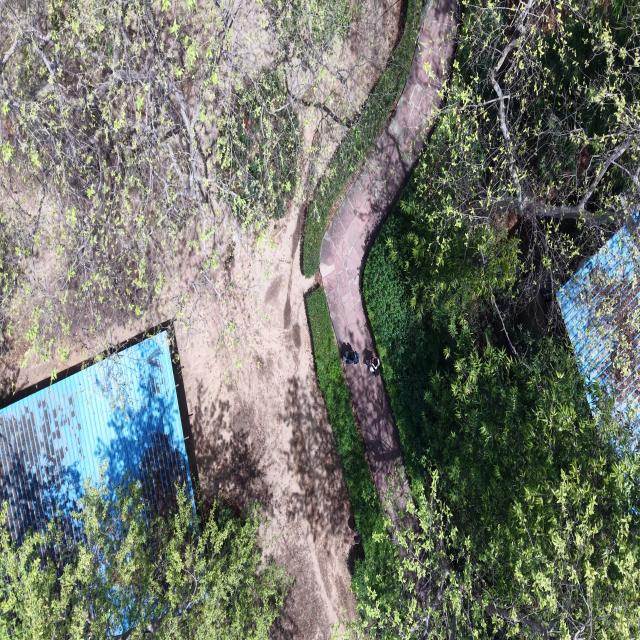DRY_AREA: (177, 206, 357, 639), (178, 210, 355, 639), (179, 211, 354, 638), (0, 181, 256, 396), (320, 0, 457, 353), (288, 0, 405, 202)
ROOFTOP_BUILDING: (0, 325, 195, 544), (558, 225, 639, 441)
VEGETATION_TREE: (307, 0, 639, 639), (360, 0, 639, 638), (0, 0, 401, 360), (308, 213, 639, 638), (0, 0, 386, 358), (359, 211, 639, 638), (0, 0, 300, 358), (0, 0, 299, 357), (365, 0, 639, 377), (394, 0, 639, 317), (424, 0, 639, 308), (350, 458, 639, 638), (0, 482, 290, 639), (302, 0, 422, 277), (306, 288, 394, 603), (363, 210, 443, 477), (306, 288, 383, 548), (211, 71, 299, 226), (267, 0, 357, 72), (0, 208, 31, 356)
